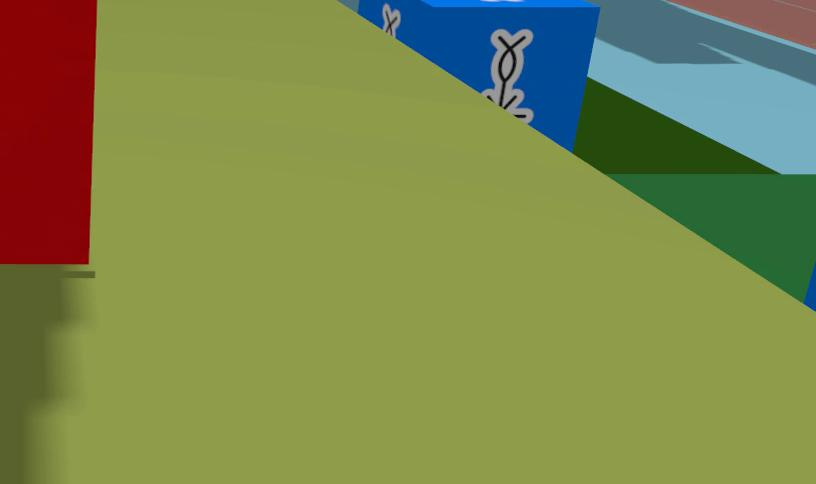KFS_FAKE: (0, 0, 95, 263)
KFS_REAL: (360, 0, 598, 149), (482, 29, 533, 123), (482, 0, 521, 1)
